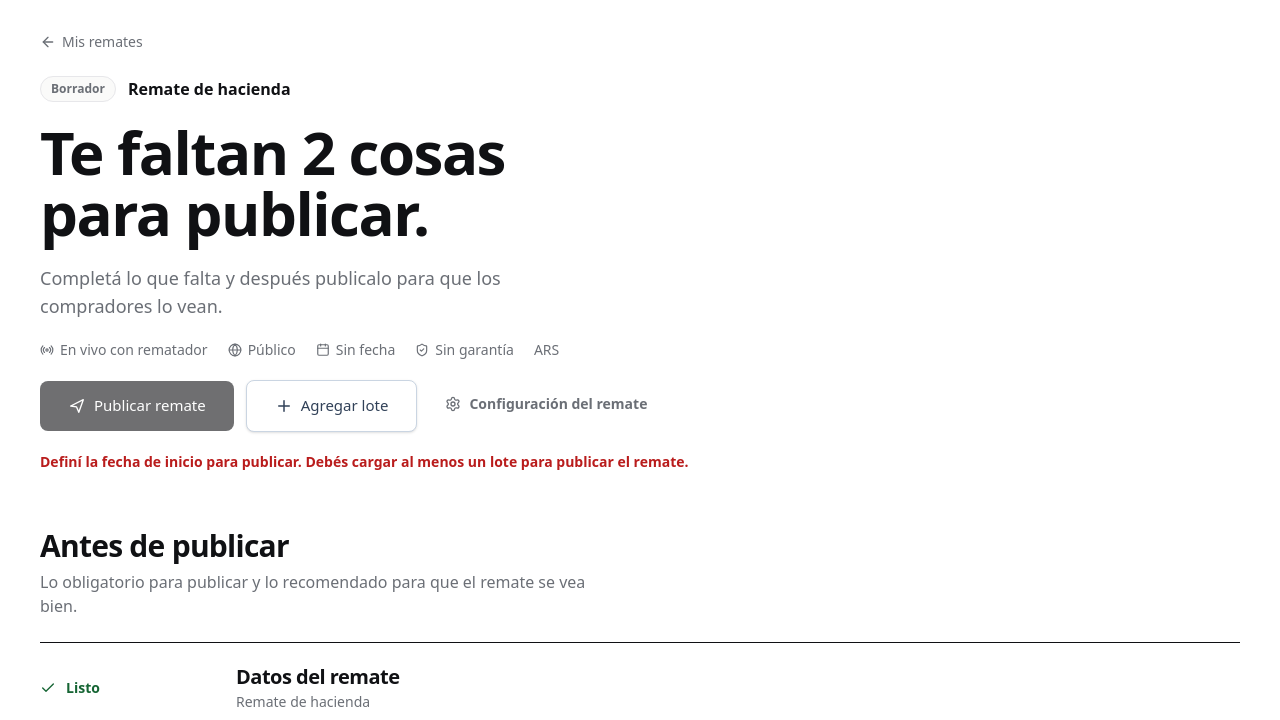
Scenario: LotesManagementPage › "Agregar lote" abre el panel de creación
Click the button "Agregar lote" at coordinates (332, 406), box [246,380,417,432]
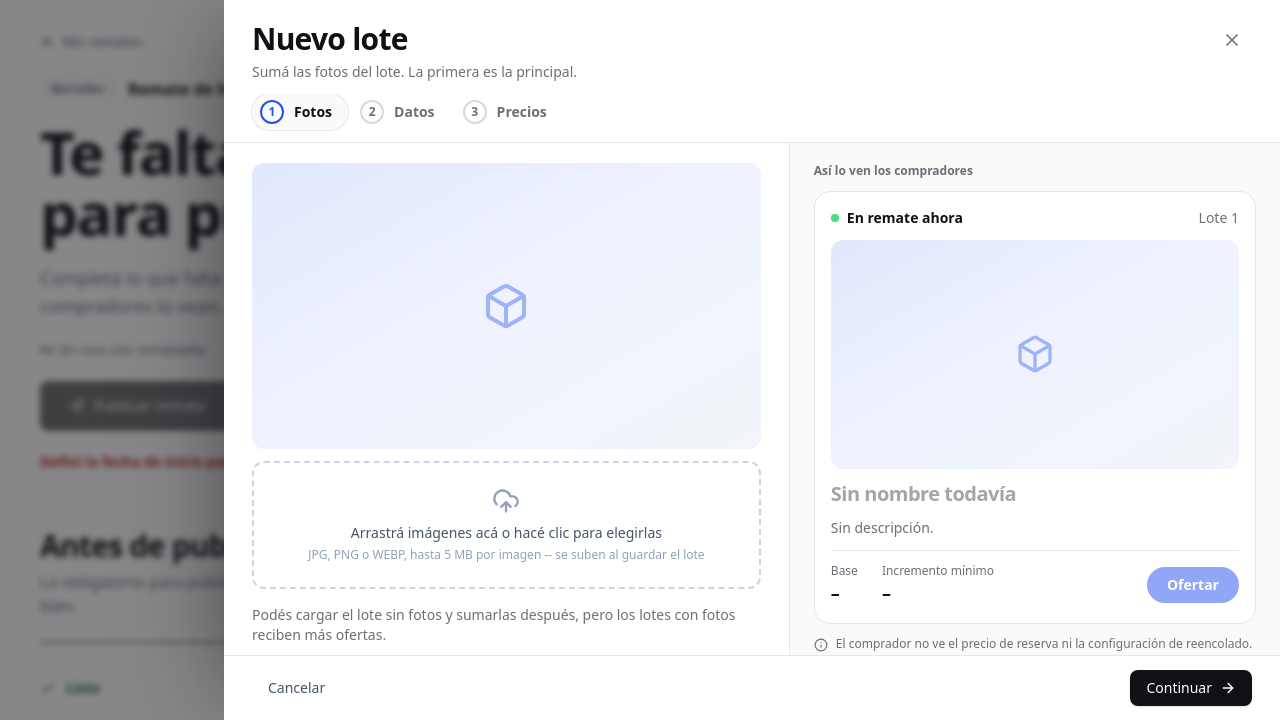
Result: the dialog "Nuevo lote" is shown
